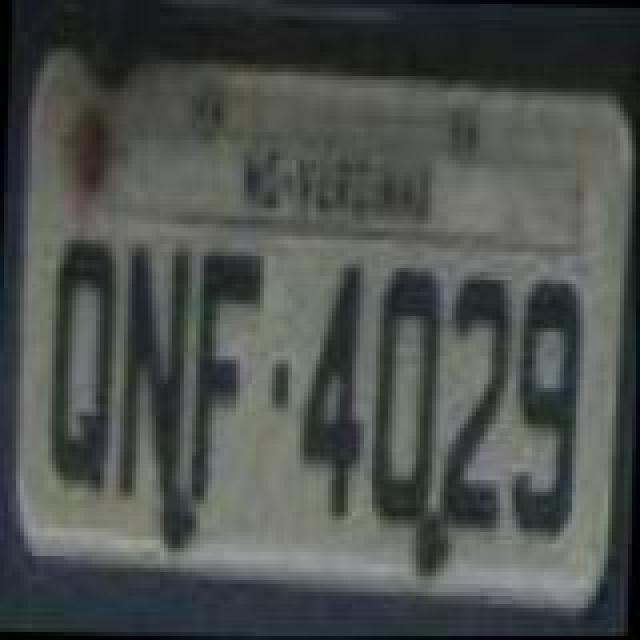2: (440, 272, 512, 536)
4: (296, 256, 368, 524)
9: (510, 270, 582, 546)
F: (188, 240, 268, 508)
N: (118, 232, 194, 508)
O: (370, 260, 446, 536)
Q: (48, 234, 120, 502)
